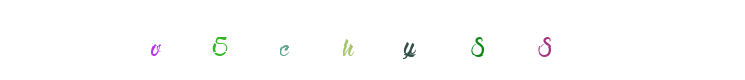5: (303, 0, 383, 80)
8: (368, 0, 448, 80), (506, 0, 586, 80)
C: (312, 0, 392, 80)
H: (328, 0, 408, 80)
V: (115, 0, 195, 80)
Y: (332, 0, 412, 80)
